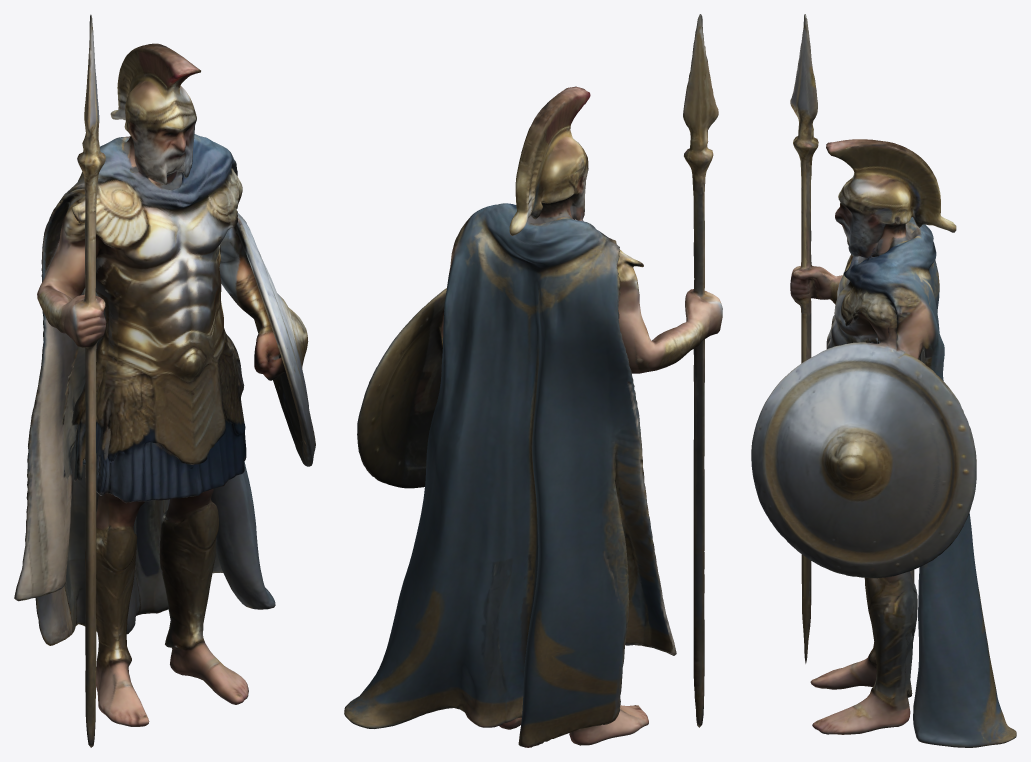
Rendered from Human_sized_Zeus_Aegi_0207055245_texture.fbx.
3 renders of one model, left to right at view 1: azimuth 30°, elevation 25°; view 2: azimuth 150°, elevation 25°; view 3: azimuth 270°, elevation 25°, orthographic. The views are drawn at different scales.
Parts seen in each view (by area): view 1: Mesh1_Mesh1.019; view 2: Mesh1_Mesh1.019; view 3: Mesh1_Mesh1.019.
Boxes of the visible parts, x1,y1,x2,y2 form: Mesh1_Mesh1.019: (14,14,315,747); Mesh1_Mesh1.019: (344,14,722,747); Mesh1_Mesh1.019: (751,14,1016,747).
Bounding box in the file's own units: 82.88 × 201 × 74.52.
Materials: 1 (1 with a texture image).
